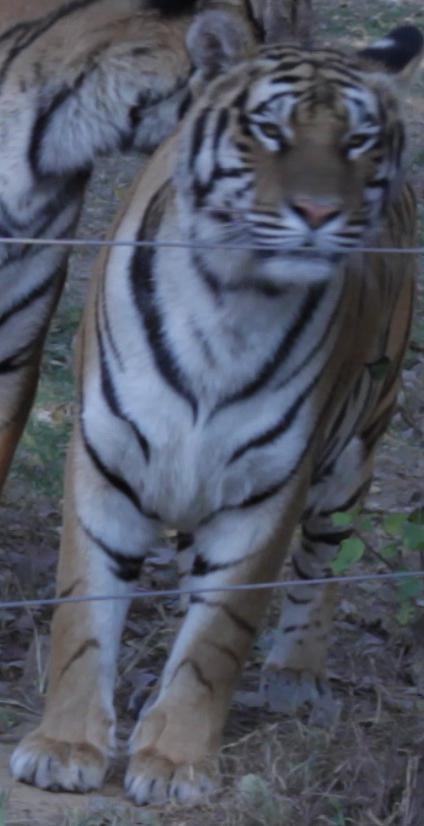tiger: (13, 0, 422, 802)
